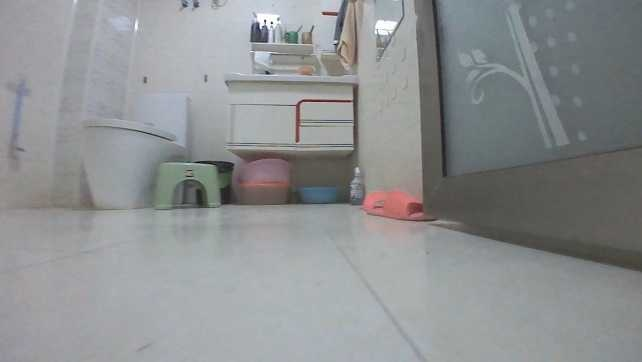door_anno: (412, 0, 640, 258)
plastic_stool: (150, 160, 222, 210)
slipper: (367, 189, 430, 225)
toilet: (73, 92, 190, 211)
washstand: (219, 66, 361, 162)
